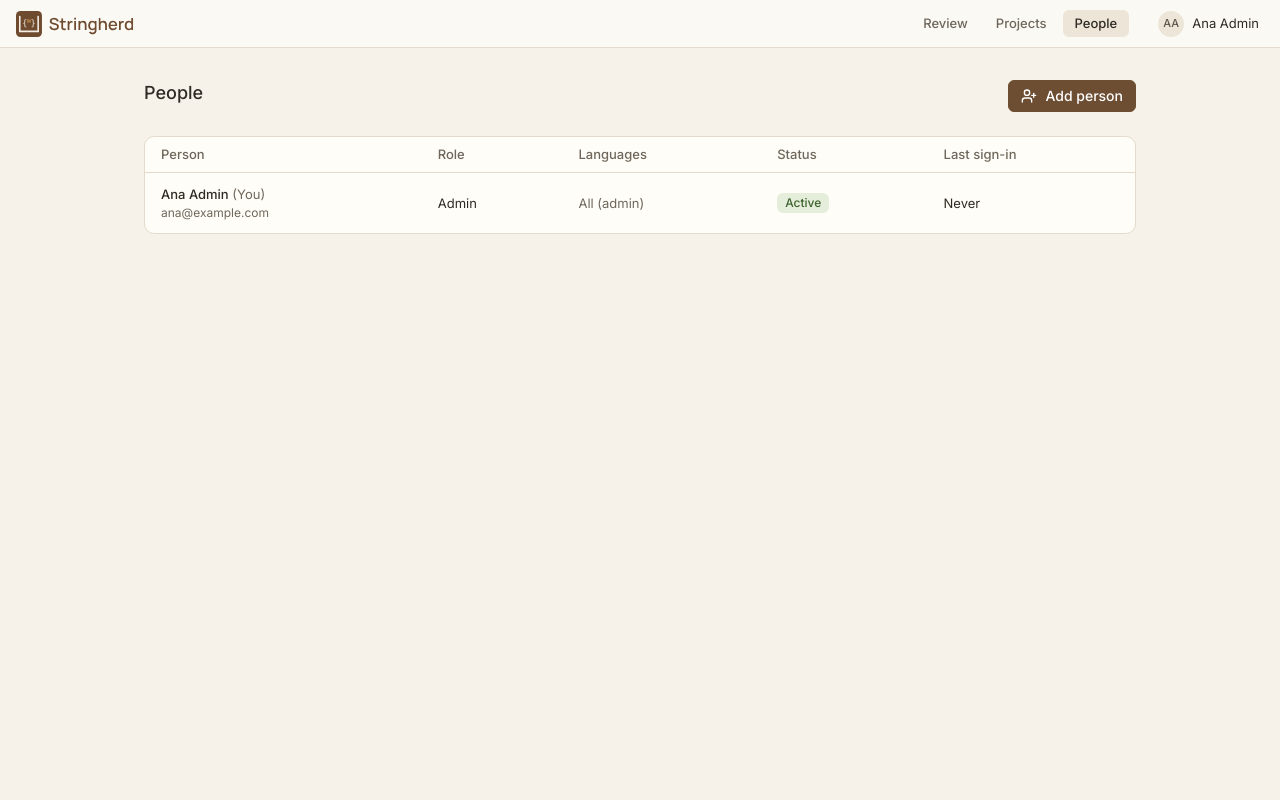
people administration › adds a person and shows the generated temporary password once
Click the button "Add person": [1072, 96] box [1008,80,1136,112]
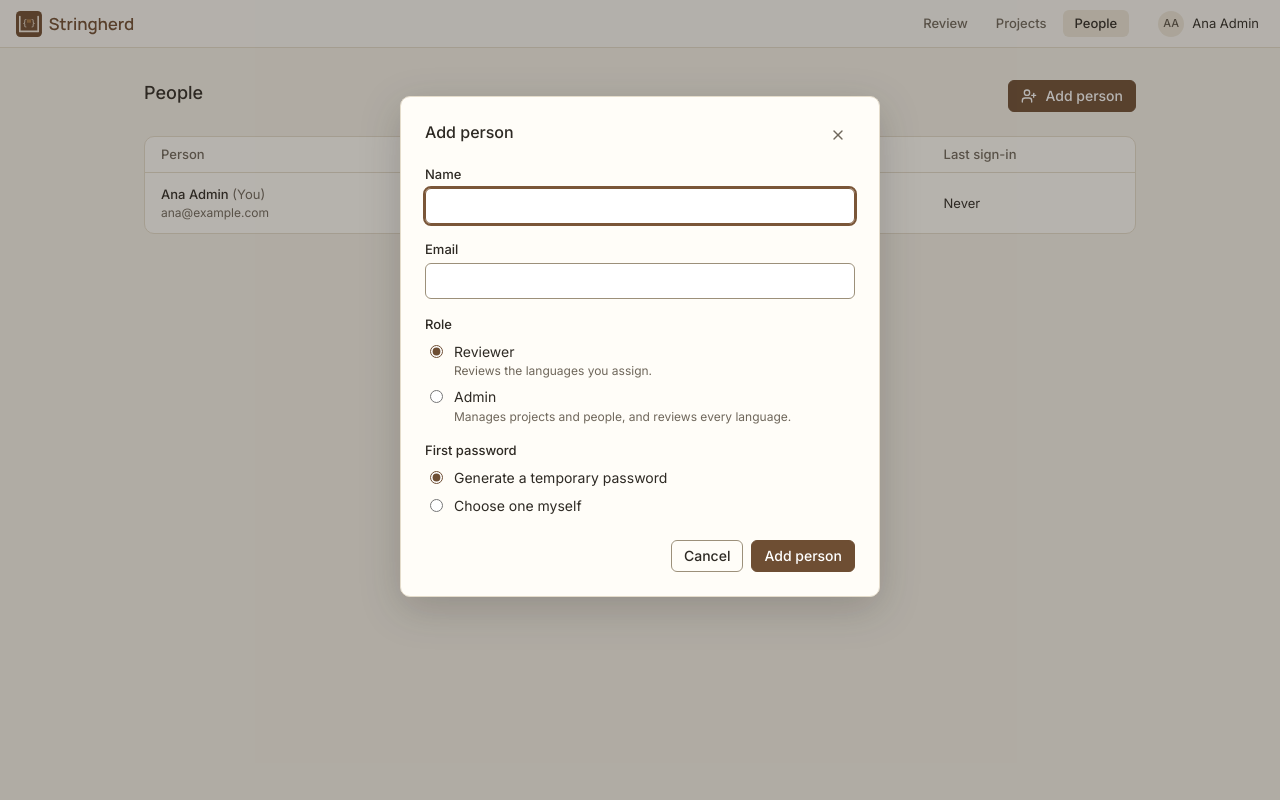
In the field labelled "Name": [640, 206] box [425,188,855,224], type "Marie"
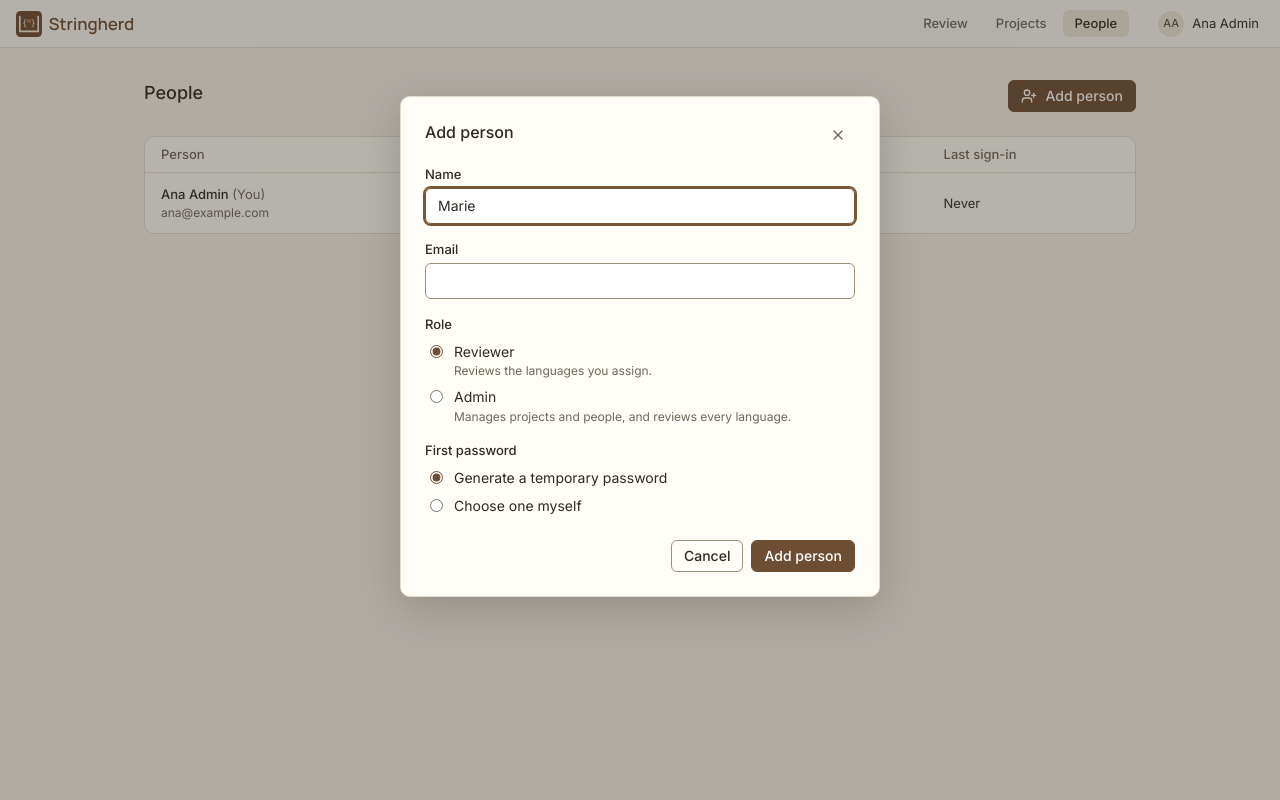
In the field labelled "Email": [640, 281] box [425,263,855,299], type "marie@example.com"
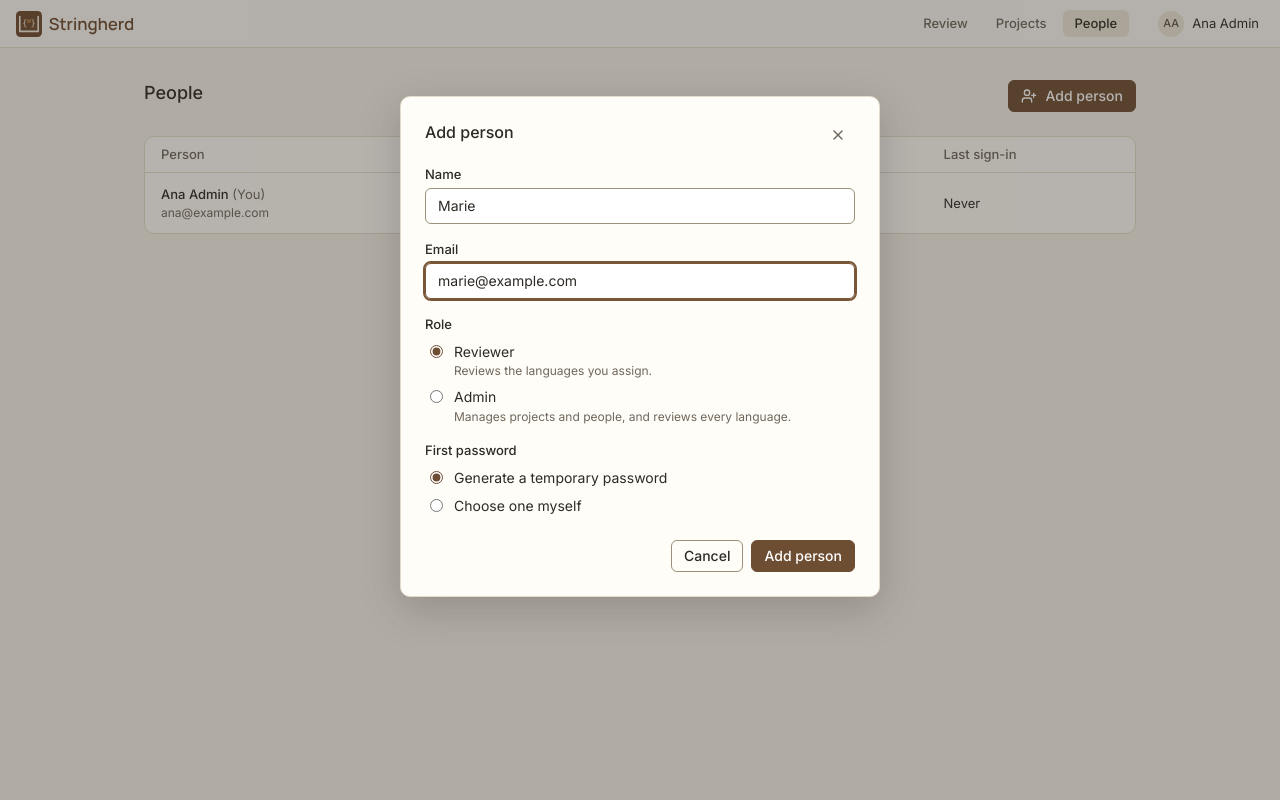
Click the button "Add person": [803, 556] box [751,540,855,572]
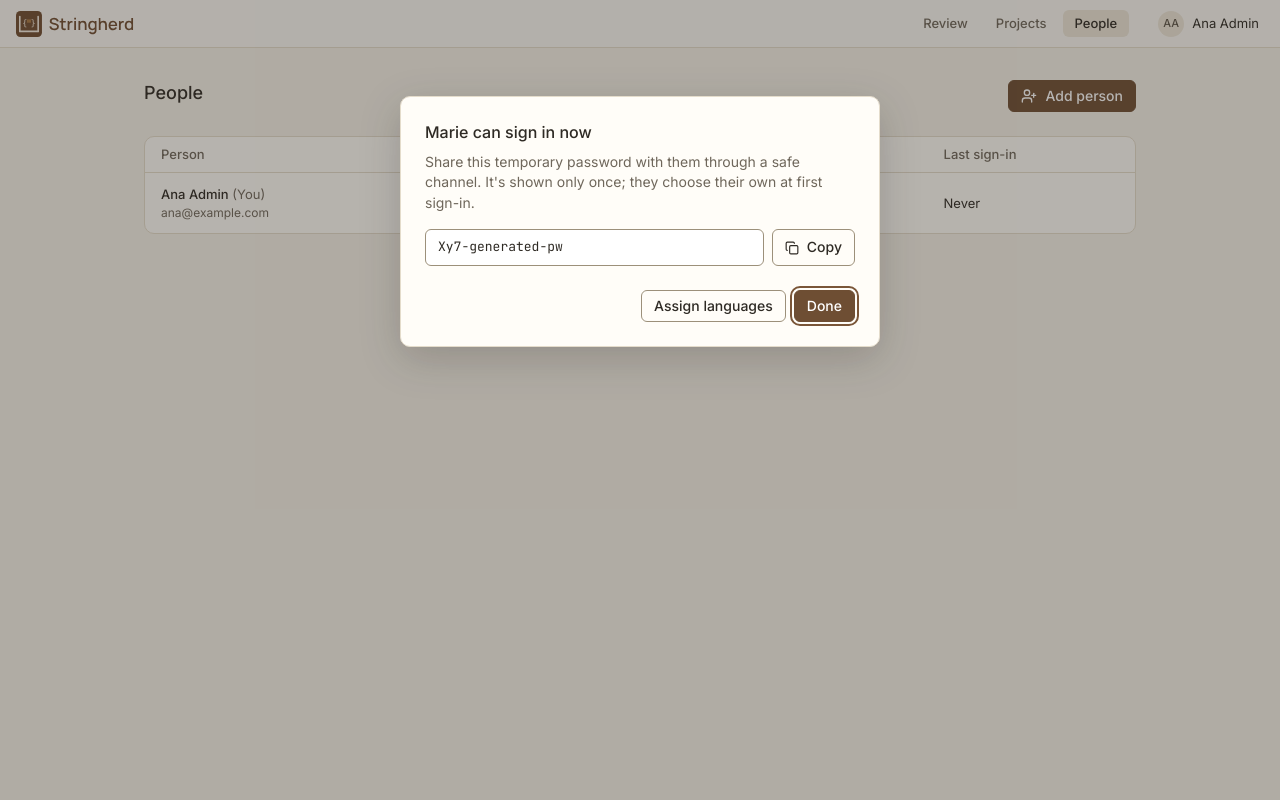
Expected: the text named "Temporary password" reads "Xy7-generated-pw", [438,238,563,255]
Expected: the button "Assign languages" is shown, [641,290,786,322]
